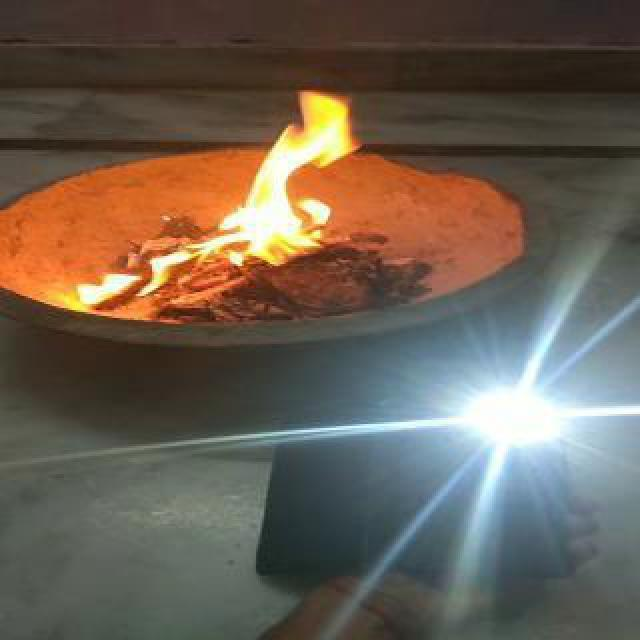Fire: (74, 86, 366, 318)
